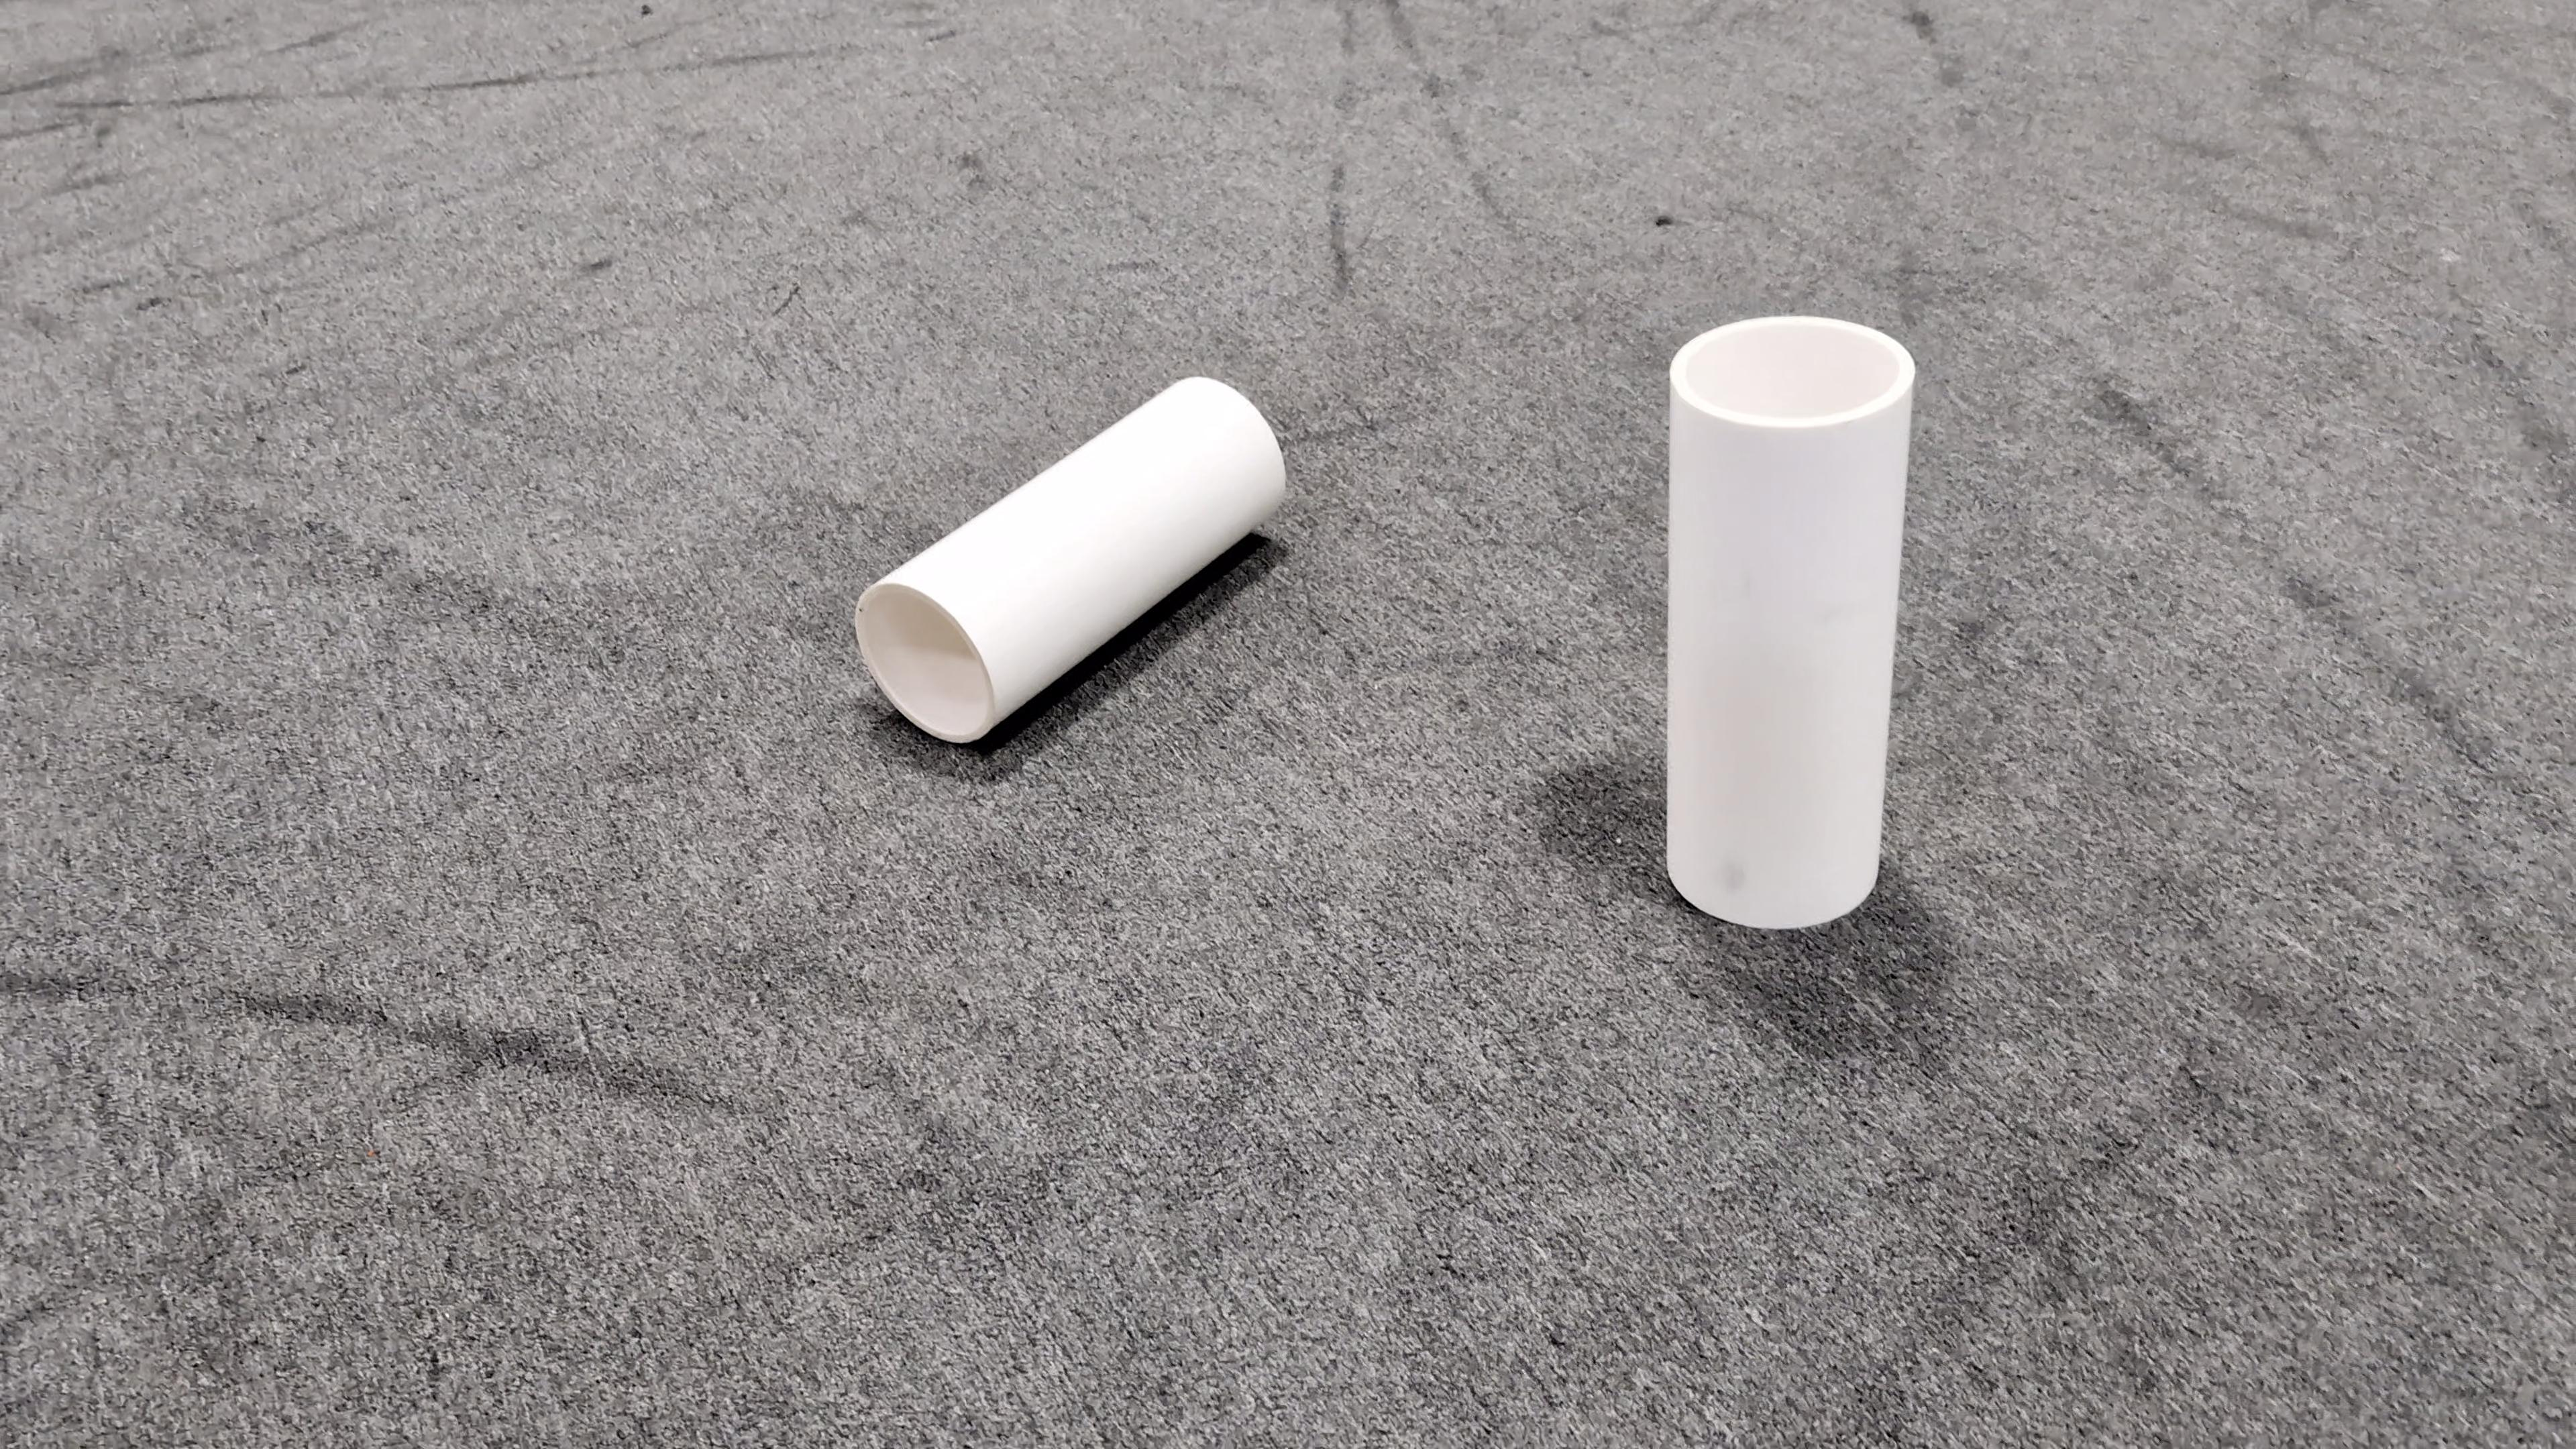coral: (851, 372, 1288, 747), (1654, 315, 1920, 929)
